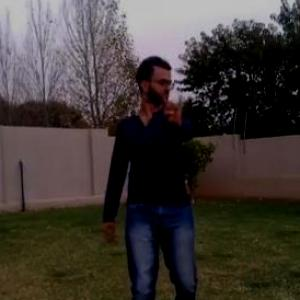takeoff-hand: (160, 87, 190, 127)
